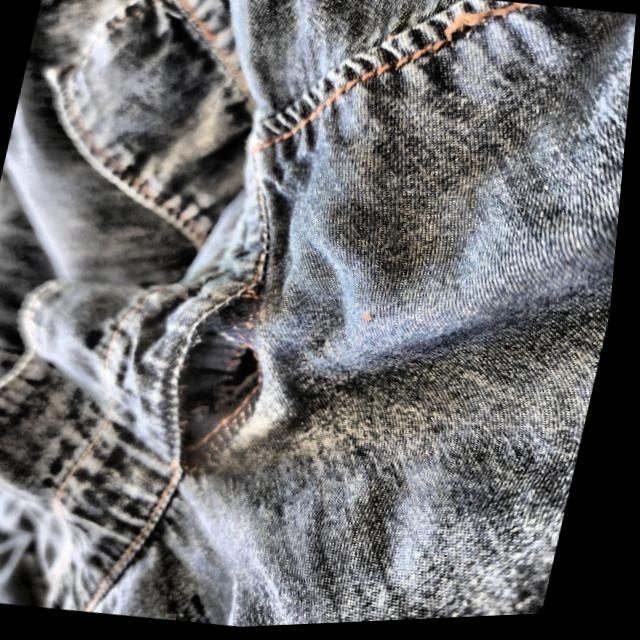seam: (143, 264, 308, 488)
